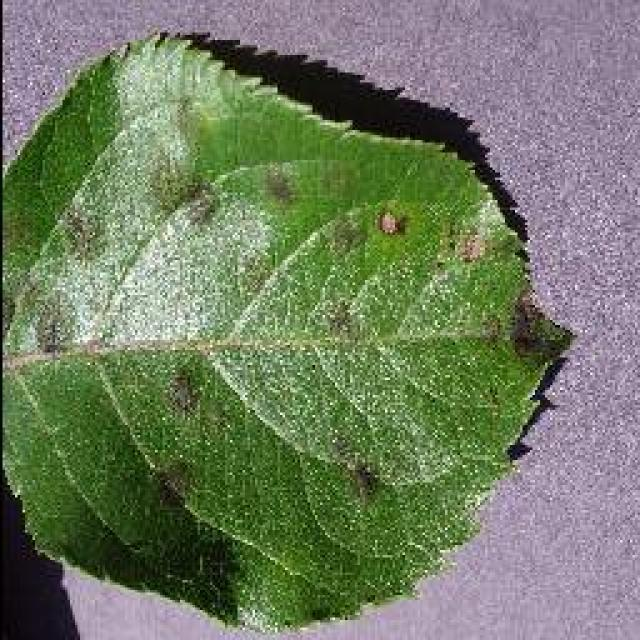apple scab disease: (0, 27, 575, 635)
